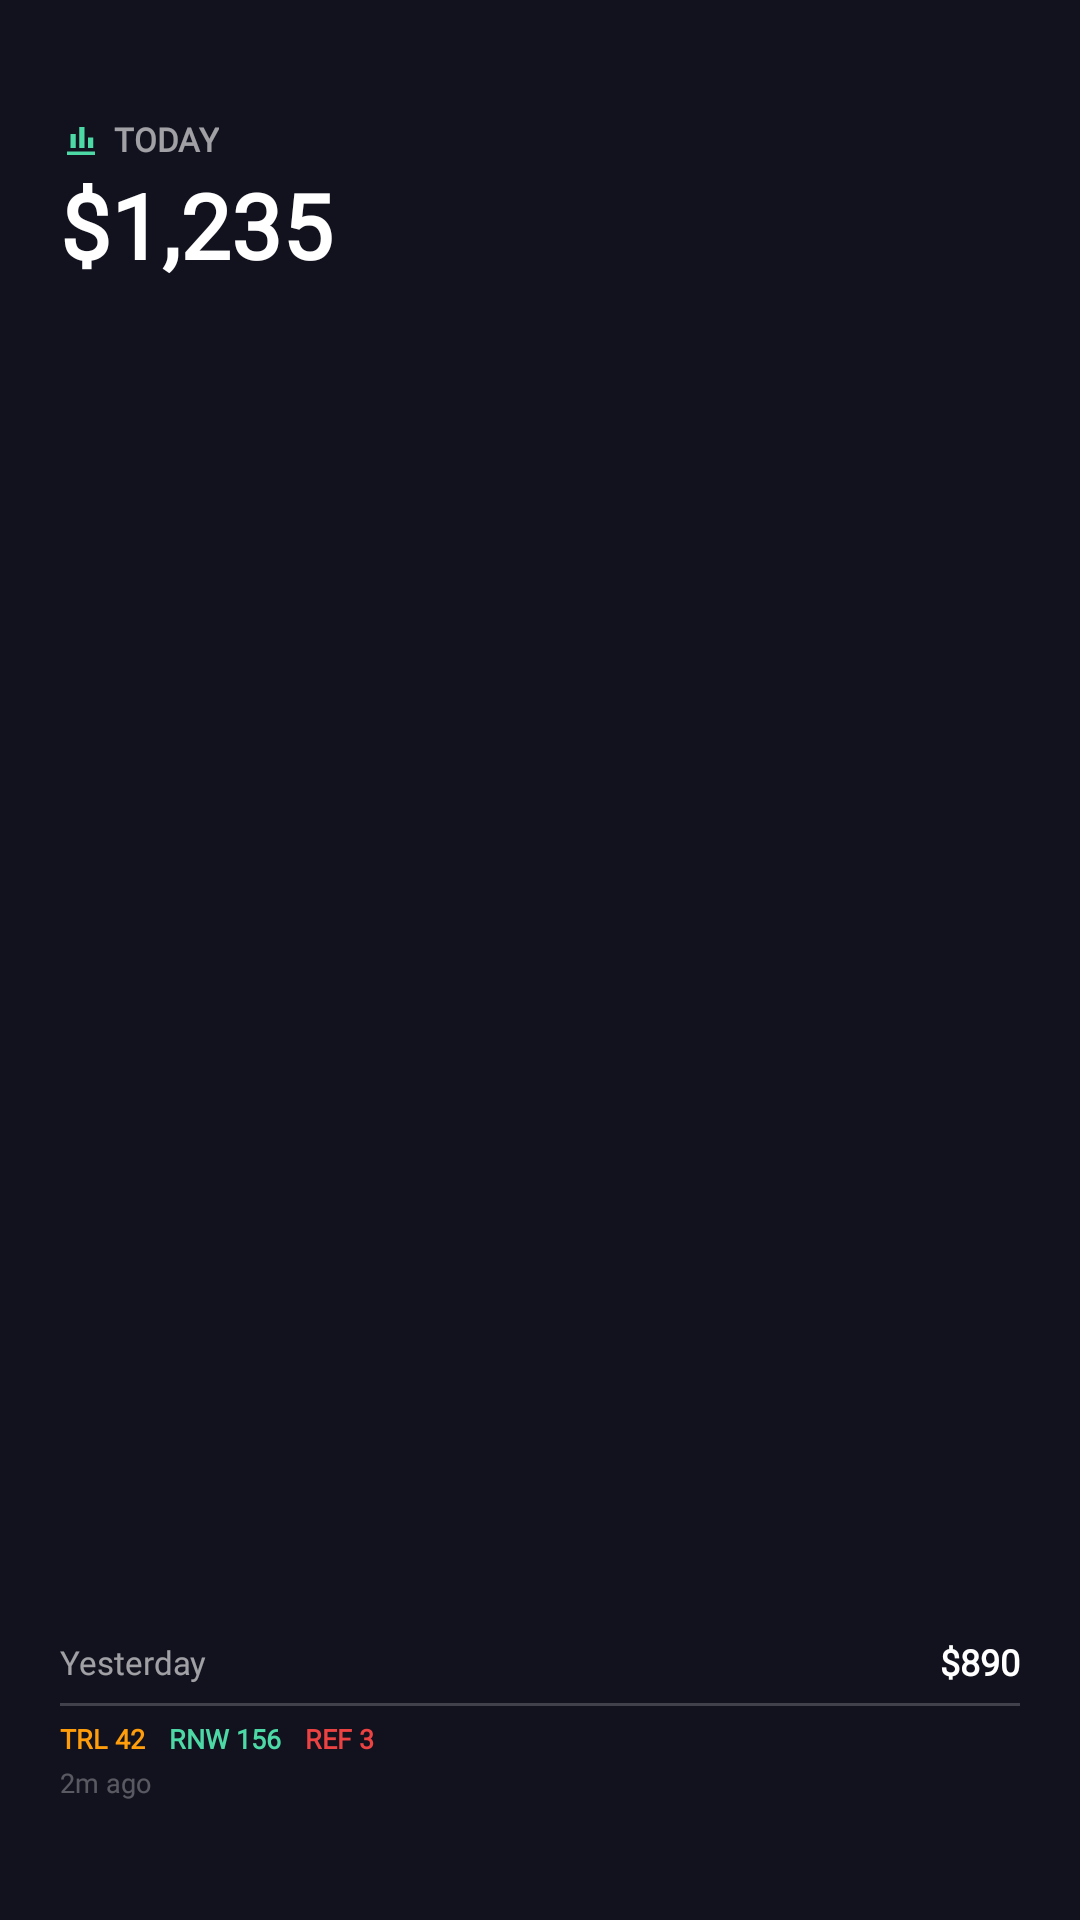

Icon click points for this 1080 x 1920 phone screenshot, format point (x, y):
widget chart bar: point (81, 141)
